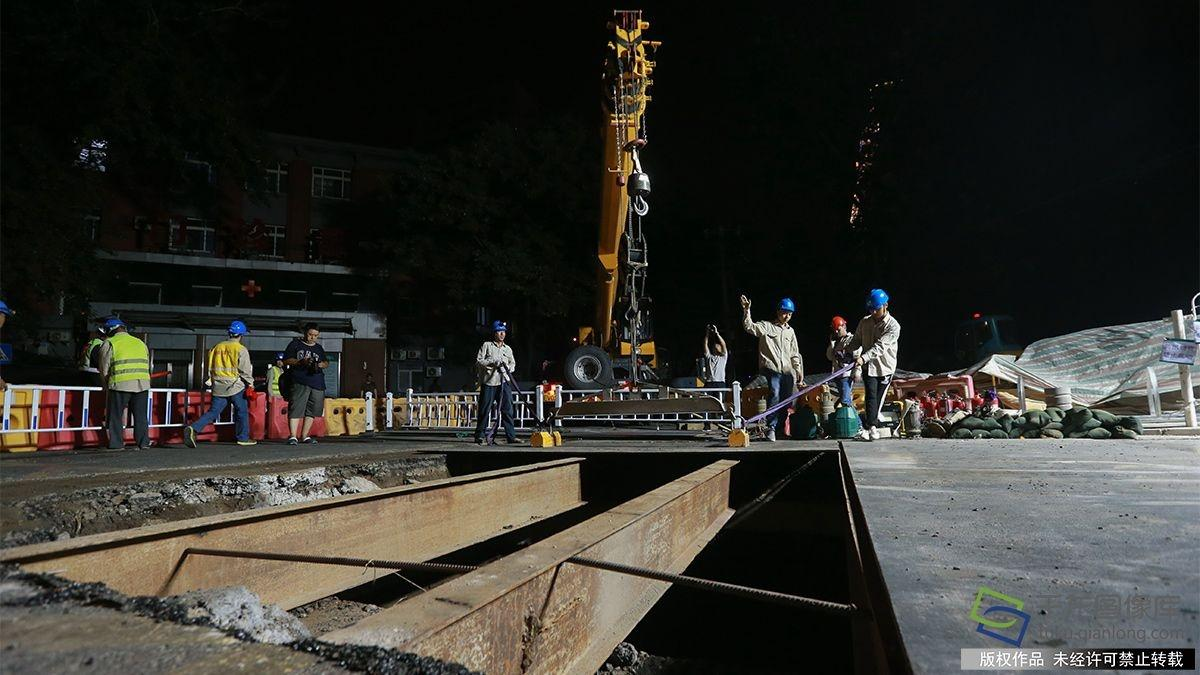Helmet: (869, 287, 889, 317), (229, 320, 249, 340), (779, 297, 793, 323)
NoHelmet: (305, 321, 321, 340)
NoVest: (289, 343, 324, 393), (485, 341, 512, 383)
Vest: (108, 336, 153, 394), (209, 340, 246, 390)
